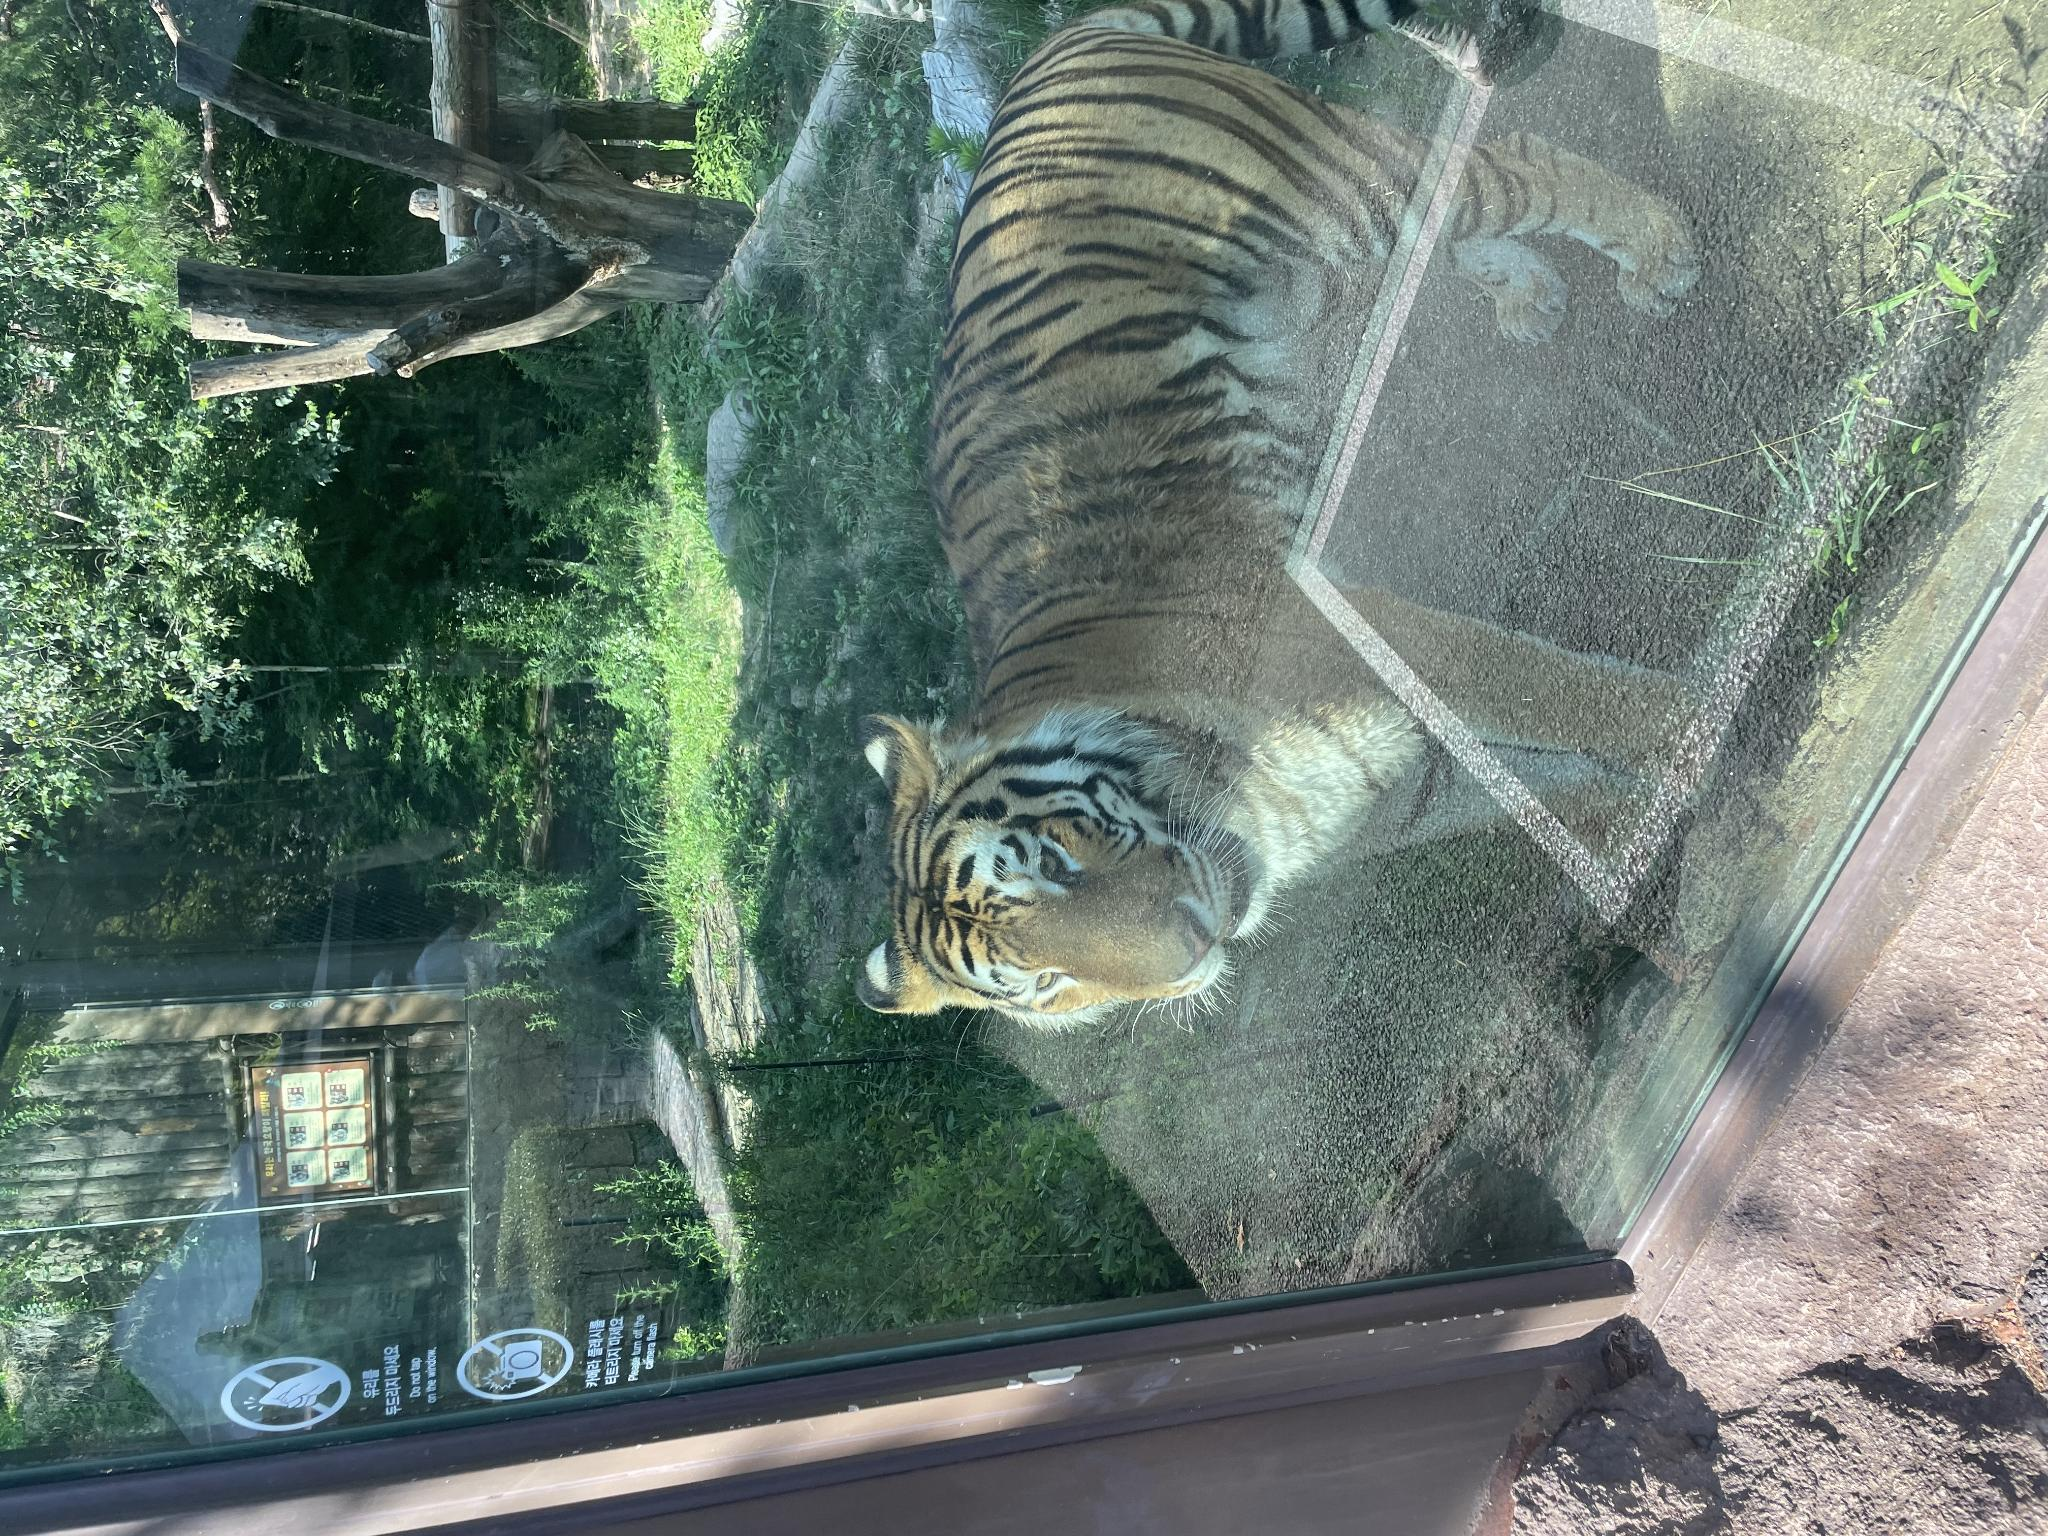tiger: (497, 855, 1534, 1536)
